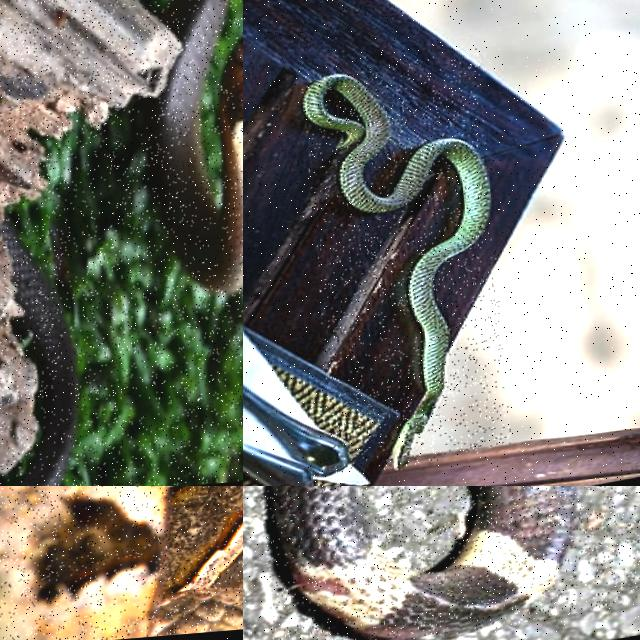Bungarus candidus: (271, 486, 577, 639)
Calloselasma rhodostoma: (0, 486, 242, 639)
Chrysopelea ornata: (302, 74, 490, 468)
Naja kaouthia: (151, 0, 242, 293)
